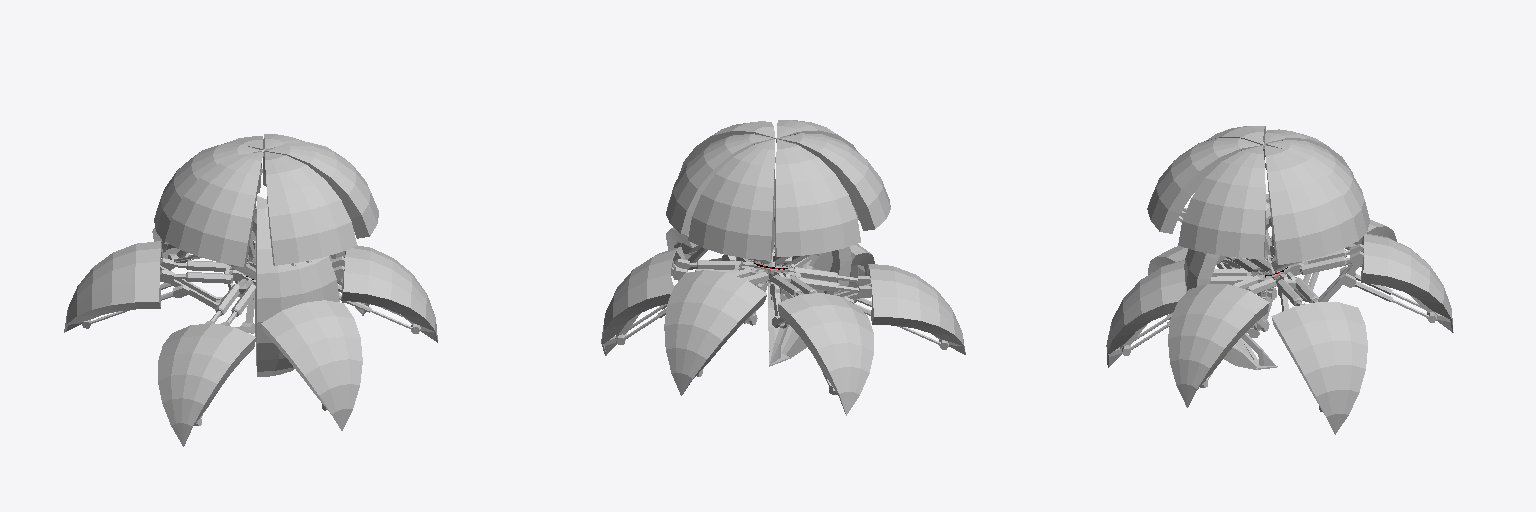
File: bot_hydrau.obj
3 renders of one model, left to right at view 1: azimuth 30°, elevation 25°; view 2: azimuth 150°, elevation 25°; view 3: azimuth 270°, elevation 25°, orthographic.
Parts seen in each view (by area): view 1: Leg_2_Leg, Leg_2.004_Leg.007, Leg_2.001_Leg.006, Circle.029_Circle.004, Circle.026_Circle.004; view 2: Leg_2_Leg, Leg_2.001_Leg.006, Circle.026_Circle.004, Circle.029_Circle.004, Circle.033_Circle.004; view 3: Leg_2_Leg, Leg_2.001_Leg.006, Leg_2.004_Leg.007, Circle.030_Circle.004, Circle.033_Circle.004, Circle.043_Circle.006, Circle.024_Circle.004.
Boxes of the visible parts, x1=… form: Leg_2_Leg: x1=64, y1=134, x2=437, y2=446; Leg_2.004_Leg.007: x1=255, y1=196, x2=339, y2=322; Leg_2.001_Leg.006: x1=255, y1=315, x2=294, y2=376; Circle.029_Circle.004: x1=186, y1=260, x2=242, y2=283; Circle.026_Circle.004: x1=215, y1=279, x2=255, y2=316; Leg_2_Leg: x1=601, y1=120, x2=965, y2=415; Leg_2.001_Leg.006: x1=768, y1=251, x2=851, y2=366; Circle.026_Circle.004: x1=788, y1=267, x2=839, y2=291; Circle.029_Circle.004: x1=770, y1=271, x2=816, y2=296; Circle.033_Circle.004: x1=695, y1=260, x2=753, y2=272; Leg_2_Leg: x1=1106, y1=126, x2=1453, y2=434; Leg_2.001_Leg.006: x1=1224, y1=291, x2=1277, y2=369; Leg_2.004_Leg.007: x1=1184, y1=194, x2=1269, y2=290; Circle.030_Circle.004: x1=1291, y1=249, x2=1346, y2=275; Circle.033_Circle.004: x1=1277, y1=272, x2=1318, y2=305; Circle.043_Circle.006: x1=1340, y1=266, x2=1392, y2=301; Circle.024_Circle.004: x1=1210, y1=268, x2=1255, y2=284.
Bounding box in the file's own units: 3.4 × 2.62 × 3.64.